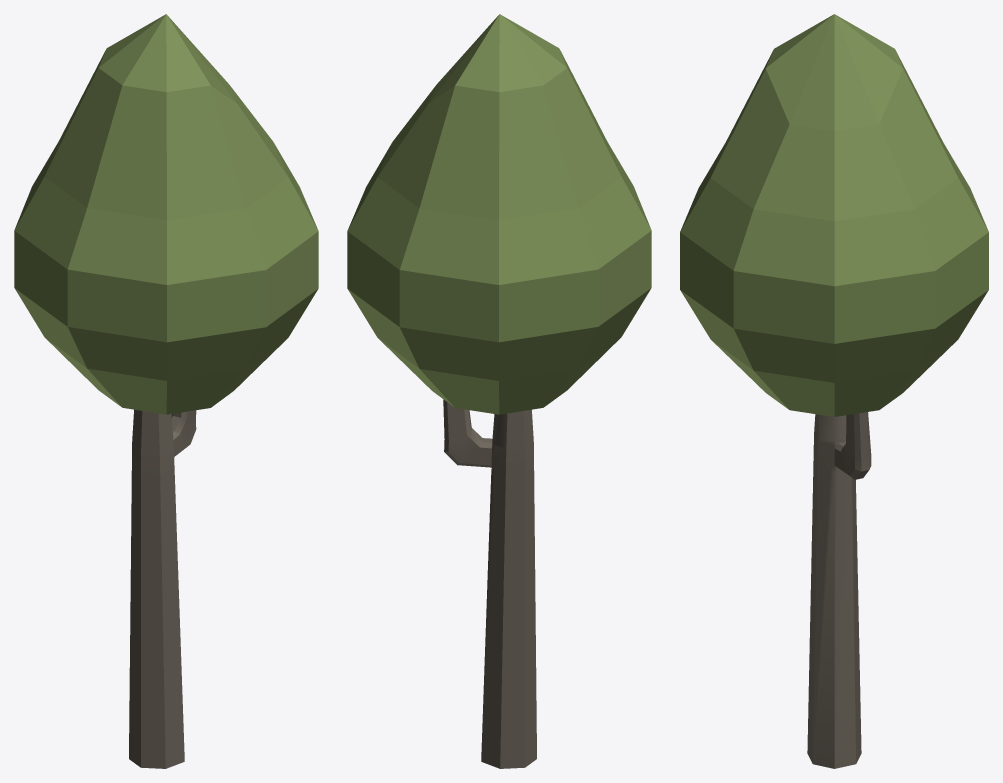
Rendered from GameJam_Tree4.fbx.
The picture shows the model from 3 angles, left to right: view 1: azimuth 30°, elevation 25°; view 2: azimuth 150°, elevation 25°; view 3: azimuth 270°, elevation 25°; orthographic projection.
Visible parts, largest first — view 1: pSphere1, Tree4; view 2: pSphere1, Tree4; view 3: pSphere1, Tree4.
Part boxes in pixels (left/top/right/bottom): pSphere1: left=14, top=14, right=318, bottom=414; Tree4: left=129, top=409, right=196, bottom=768; pSphere1: left=347, top=14, right=651, bottom=414; Tree4: left=443, top=399, right=536, bottom=768; pSphere1: left=680, top=14, right=988, bottom=416; Tree4: left=807, top=412, right=871, bottom=768.
Size of the model in its own units: 2.11 by 5.76 by 2.16.
